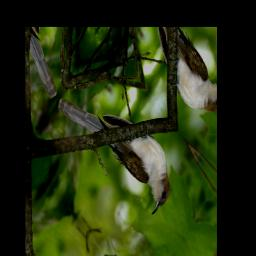Cuckoo: (56, 50, 183, 230)
